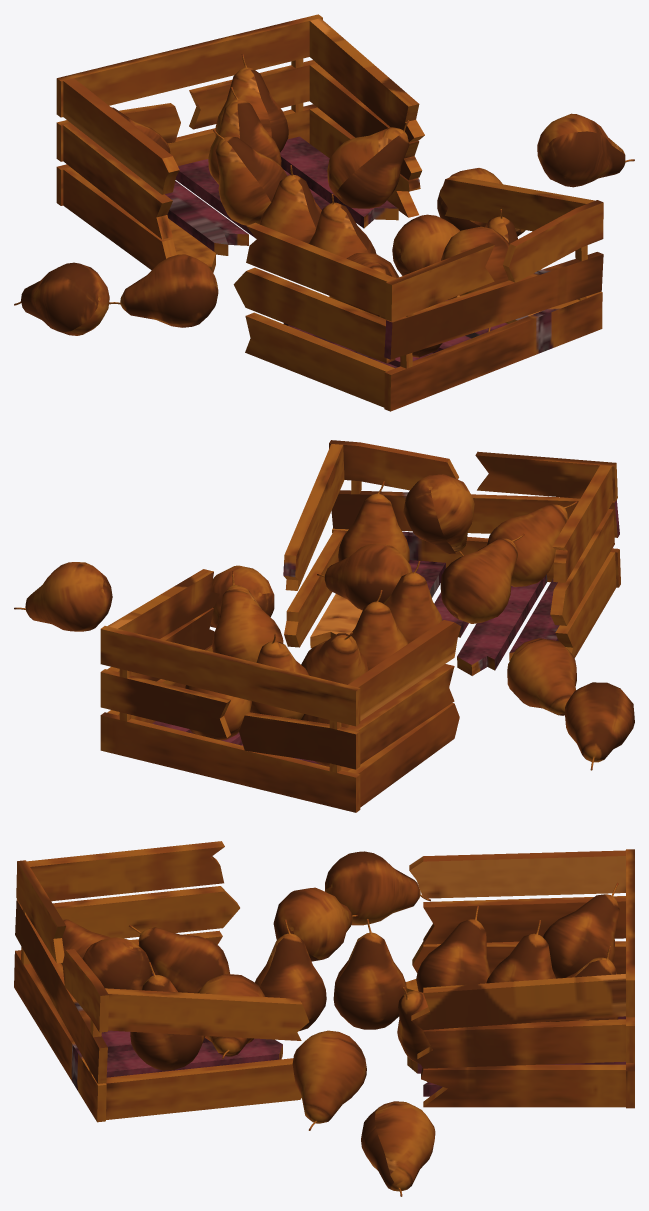
File: broken fruit crate_6.fbx
3 renders of one model, top to bottom at view 1: azimuth 30°, elevation 25°; view 2: azimuth 150°, elevation 25°; view 3: azimuth 270°, elevation 25°, orthographic. The views are drawn at different scales.
Parts seen in each view (by area): view 1: Cube.036, Cube.037, Plane.1945, Plane.1938, Plane.1932, Plane.1942, Plane.1947, Plane.1948, Plane.1937, Plane.1941, Plane.1935, Plane.1946 (+3 smaller); view 2: Cube.037, Cube.036, Plane.1943, Plane.1932, Plane.1934, Plane.1942, Plane.1945, Plane.1937, Plane.1931, Plane.1938, Plane.1940, Plane.1946 (+5 smaller); view 3: Cube.036, Cube.037, Plane.1948, Plane.1944, Plane.1932, Plane.1942, Plane.1939, Plane.1943, Plane.1945, Plane.1946, Plane.1947, Plane.1934 (+6 smaller).
Part boxes in pixels (<box>): Cube.036: <box>233,175,603,411</box>; Cube.037: <box>56,14,424,272</box>; Plane.1945: <box>109,254,218,327</box>; Plane.1938: <box>327,120,409,208</box>; Plane.1932: <box>537,113,634,187</box>; Plane.1942: <box>14,262,109,335</box>; Plane.1947: <box>213,129,286,225</box>; Plane.1948: <box>259,165,321,243</box>; Plane.1937: <box>392,214,459,275</box>; Plane.1941: <box>208,87,281,184</box>; Plane.1935: <box>215,54,288,152</box>; Plane.1946: <box>309,194,376,258</box>; Cube.037: <box>100,569,460,812</box>; Cube.036: <box>283,440,620,675</box>; Plane.1943: <box>440,533,524,623</box>; Plane.1932: <box>14,562,112,631</box>; Plane.1934: <box>403,474,474,556</box>; Plane.1942: <box>565,682,634,770</box>; Plane.1945: <box>507,638,576,715</box>; Plane.1937: <box>317,543,412,610</box>; Plane.1931: <box>487,501,577,586</box>; Plane.1938: <box>212,571,283,662</box>; Plane.1940: <box>338,481,409,562</box>; Plane.1946: <box>383,561,442,643</box>; Cube.036: <box>14,841,309,1122</box>; Cube.037: <box>406,849,634,1108</box>; Plane.1948: <box>333,918,406,1029</box>; Plane.1944: <box>292,1030,366,1130</box>; Plane.1932: <box>361,1101,435,1196</box>; Plane.1942: <box>325,851,430,925</box>; Plane.1939: <box>543,882,619,978</box>; Plane.1943: <box>129,925,229,993</box>; Plane.1945: <box>273,887,358,961</box>; Plane.1946: <box>255,919,326,1030</box>; Plane.1947: <box>416,905,490,992</box>; Plane.1934: <box>82,937,152,990</box>.
Size of the model in its own units: 62.76 by 13.31 by 53.78.
